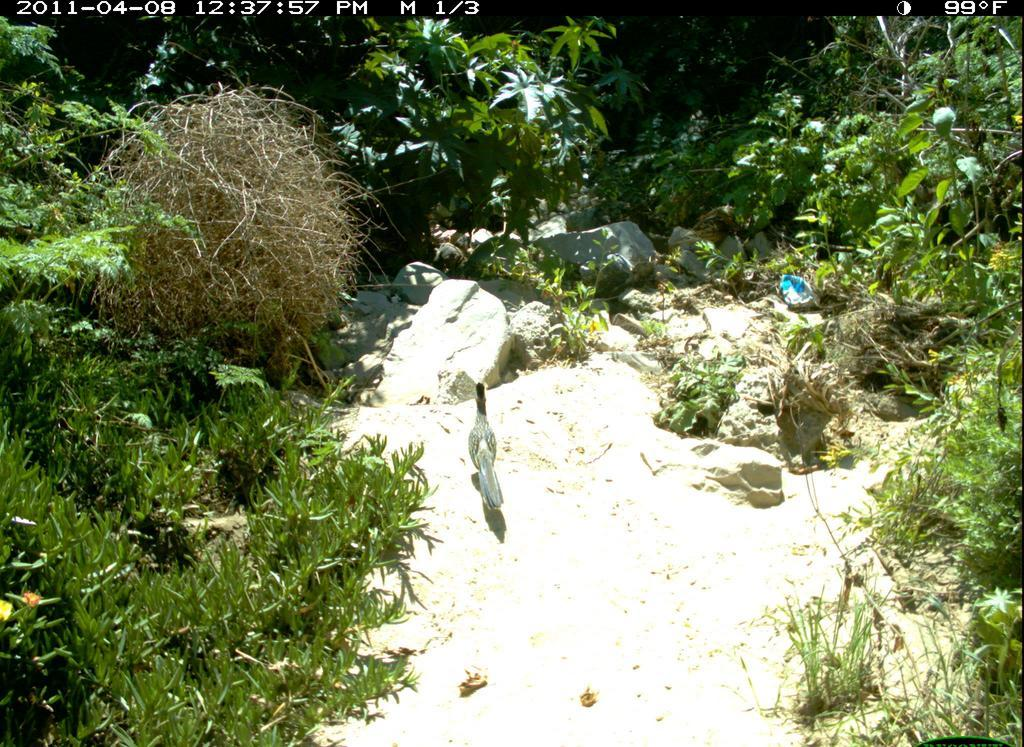bird: (433, 368, 515, 551)
